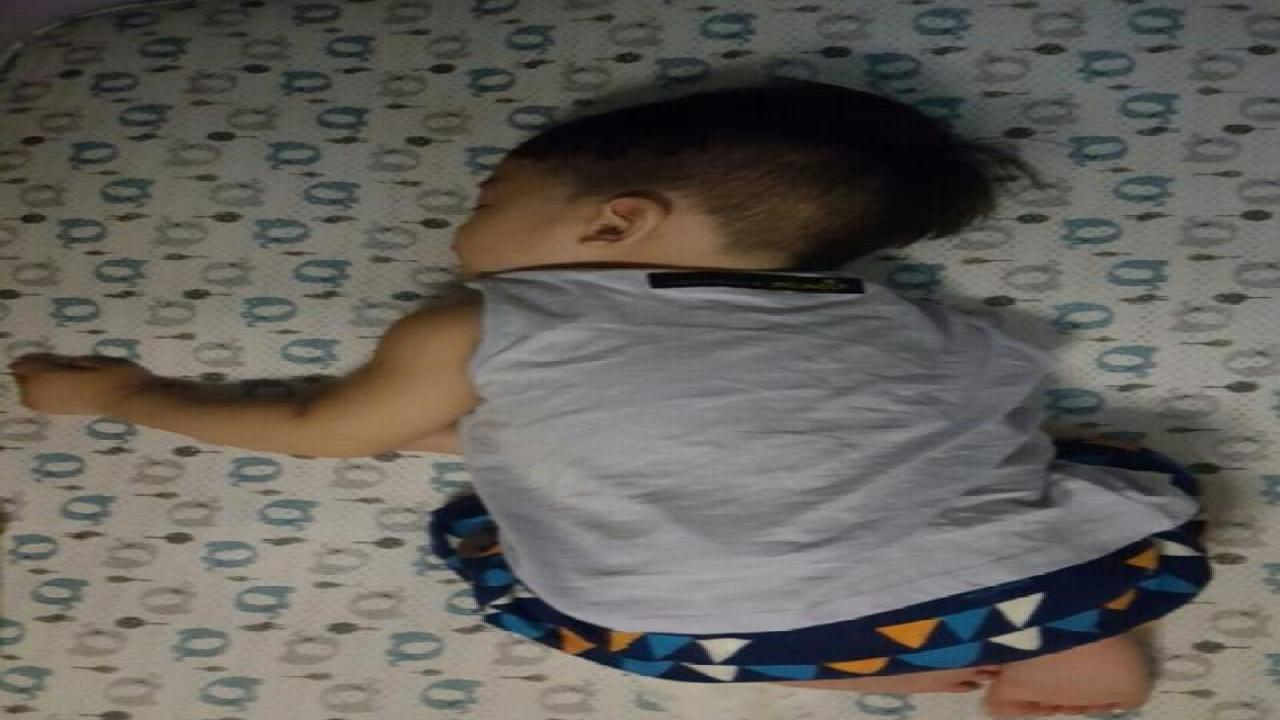hand: (7, 354, 158, 417)
